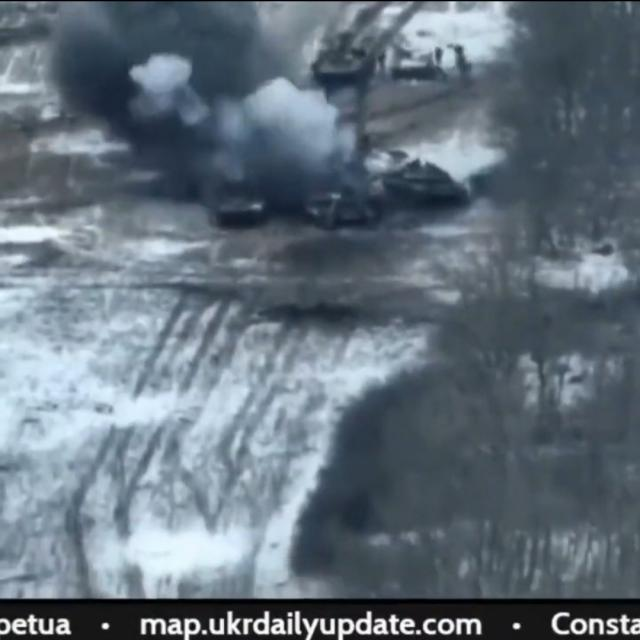destroyed: (301, 182, 371, 227), (214, 175, 268, 225)
tank: (383, 161, 469, 208), (312, 36, 375, 84)
